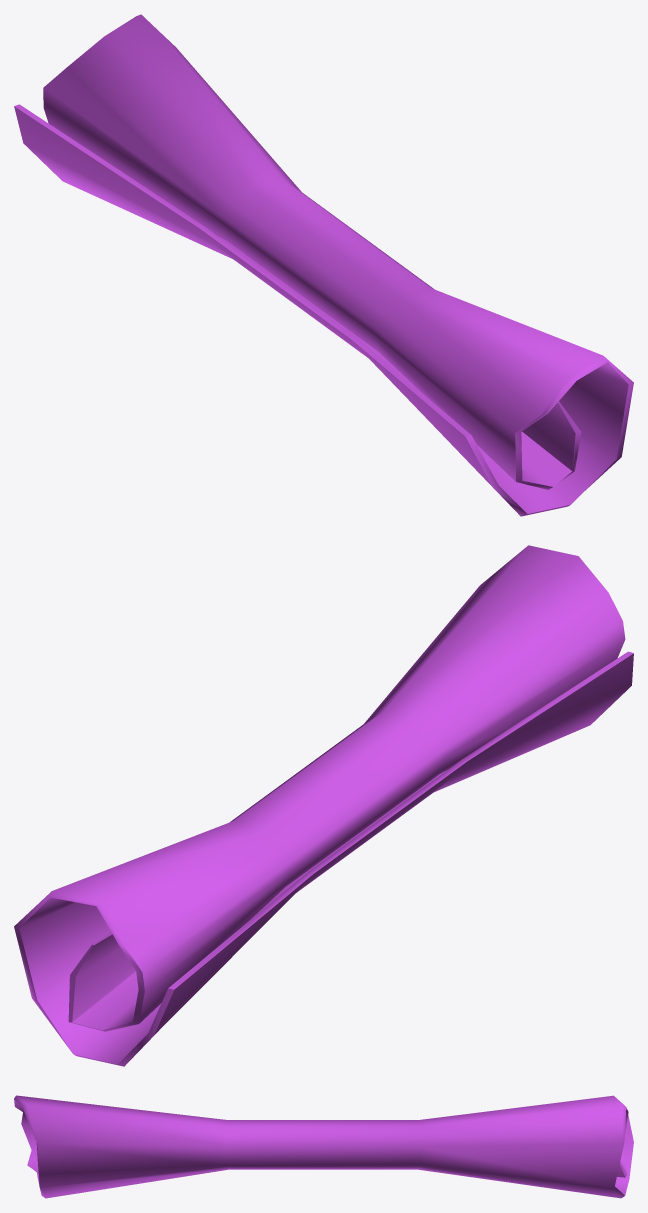
The model's file is MorKağıt.fbx.
3 views of the same model, one above another, from view 1: azimuth 30°, elevation 25°; view 2: azimuth 150°, elevation 25°; view 3: azimuth 270°, elevation 25° (orthographic). The views are drawn at different scales.
Parts seen in each view (by area): view 1: Kağıt; view 2: Kağıt; view 3: Kağıt.
Part boxes in pixels (bbox=[...]): Kağıt: bbox=[14, 14, 633, 516]; Kağıt: bbox=[14, 545, 633, 1066]; Kağıt: bbox=[14, 1095, 633, 1198].
Size of the model in its own units: 261 by 245 by 1366.
